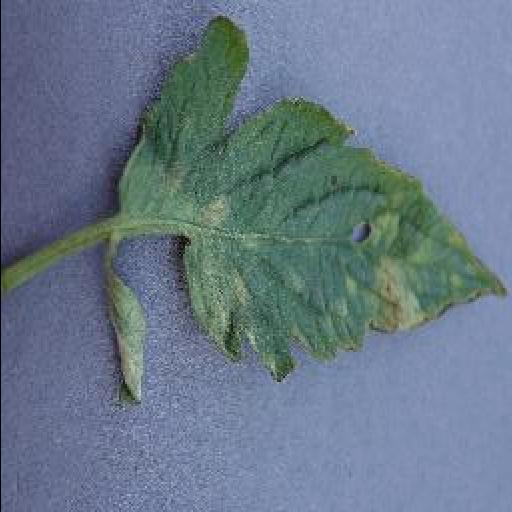disease_tomato: (119, 20, 509, 386)
